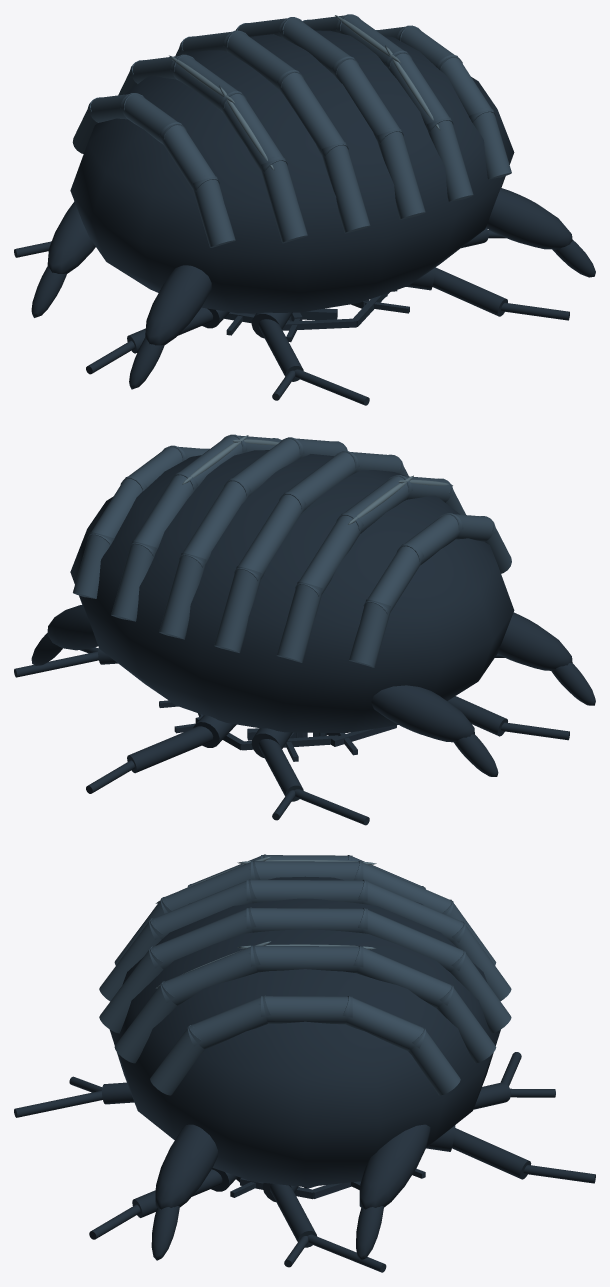
Rendered from CMU3DHiveHiveCoreXeno.glb.
3 views of the same model, one above another, from view 1: azimuth 30°, elevation 25°; view 2: azimuth 150°, elevation 25°; view 3: azimuth 270°, elevation 25° (orthographic). The views are drawn at different scales.
Visible parts, largest first — view 1: low vaulted core, sweeping vaulted chitin plate (×23), lateral shoulder buttress (×6), sinuous anchoring root (×6), interwoven root loop; view 2: low vaulted core, sweeping vaulted chitin plate (×23), lateral shoulder buttress (×6), sinuous anchoring root (×9), interwoven root loop; view 3: low vaulted core, sweeping vaulted chitin plate (×23), lateral shoulder buttress (×4), sinuous anchoring root (×9).
Part boxes in pixels (bbox=[...]): low vaulted core: bbox=[70, 30, 514, 313]; sweeping vaulted chitin plate (×23): bbox=[72, 14, 511, 247]; lateral shoulder buttress (×6): bbox=[31, 188, 595, 389]; sinuous anchoring root (×6): bbox=[86, 267, 569, 405]; interwoven root loop: bbox=[282, 318, 356, 330]; low vaulted core: bbox=[70, 450, 514, 732]; sweeping vaulted chitin plate (×23): bbox=[73, 434, 511, 667]; lateral shoulder buttress (×6): bbox=[31, 605, 595, 776]; sinuous anchoring root (×9): bbox=[14, 651, 569, 825]; interwoven root loop: bbox=[241, 735, 338, 750]; low vaulted core: bbox=[109, 876, 500, 1187]; sweeping vaulted chitin plate (×23): bbox=[99, 860, 511, 1095]; lateral shoulder buttress (×4): bbox=[151, 1124, 430, 1260]; sinuous anchoring root (×9): bbox=[14, 1082, 595, 1272].
Size of the model in its own units: 1.49 by 0.7241 by 1.48.
